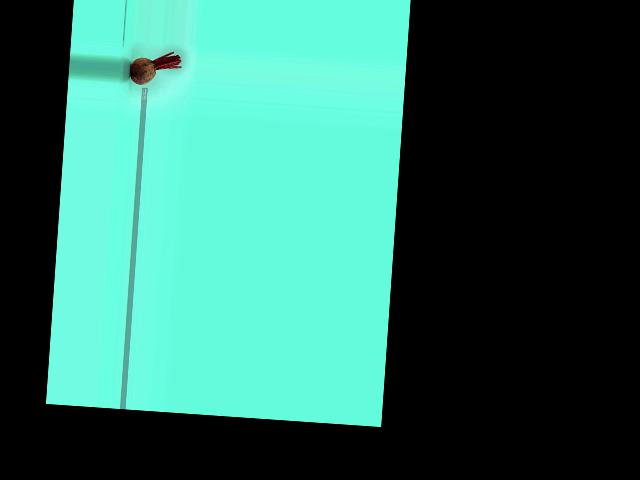beet: (129, 49, 182, 87)
